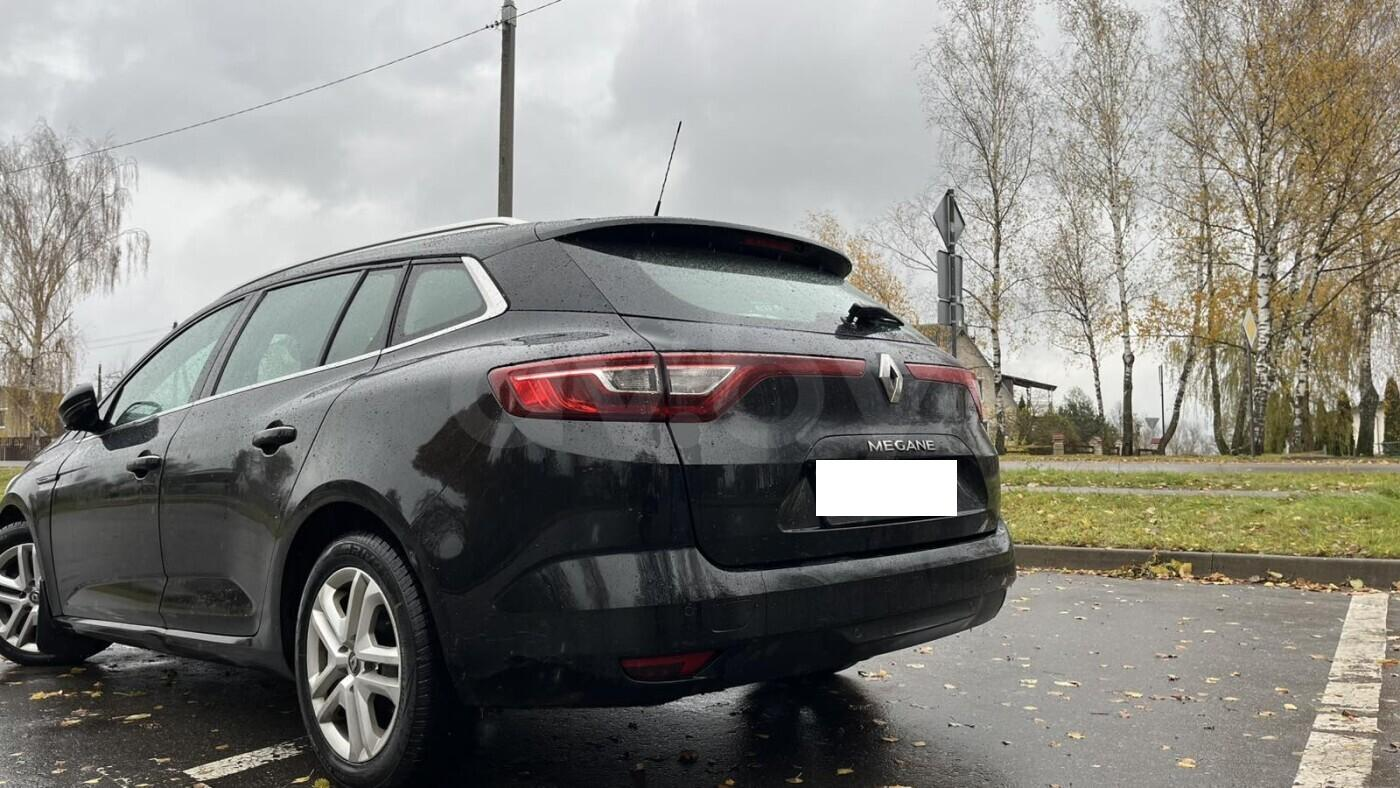Megane_2016-2020: (0, 209, 1011, 785)
